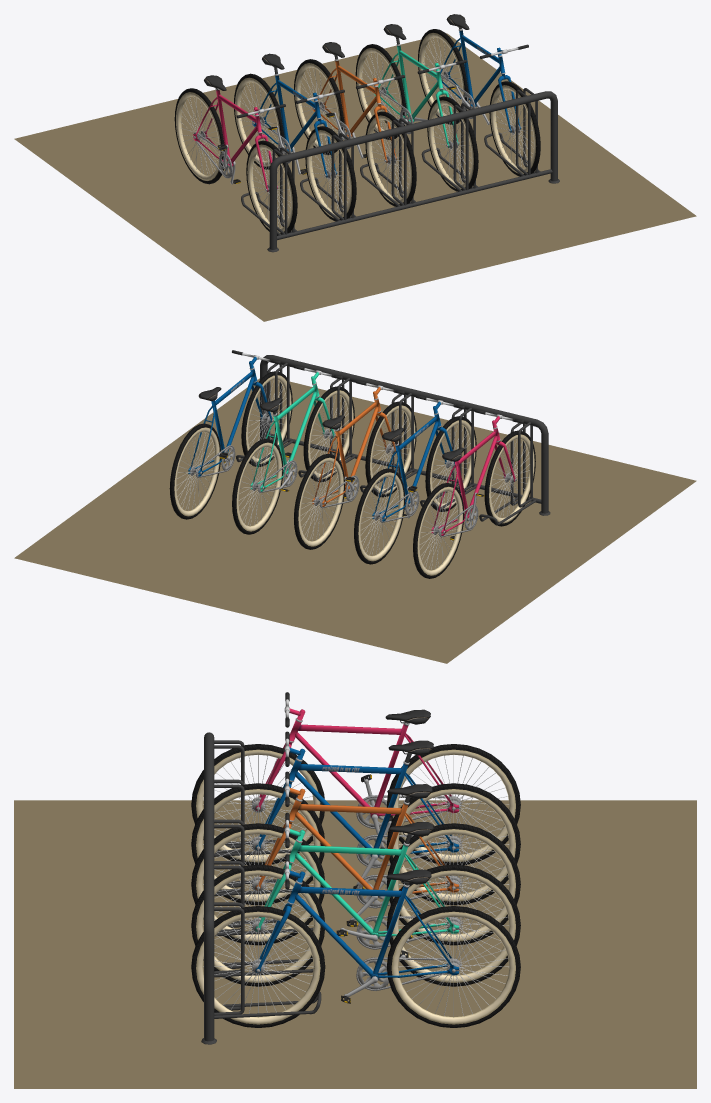
Rendered from bicycle_parking.glb.
The picture shows the model from 3 angles, top to bottom: view 1: azimuth 30°, elevation 25°; view 2: azimuth 150°, elevation 25°; view 3: azimuth 270°, elevation 25°; orthographic projection. The views are drawn at different scales.
Visible parts, largest first — view 1: floor, bic_main; view 2: floor, bic_main; view 3: floor, bic_main.
Boxes of the visible parts, <box> form: floor: <box>14,33,696,321</box>; bic_main: <box>174,14,559,252</box>; floor: <box>14,378,696,663</box>; bic_main: <box>169,350,550,578</box>; floor: <box>14,800,696,1088</box>; bic_main: <box>191,692,520,1044</box>.
Bounding box in the file's own units: 4.26 × 1.11 × 4.26.
Materials: 2 (1 with a texture image).
